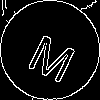M: (25, 25, 83, 84)
